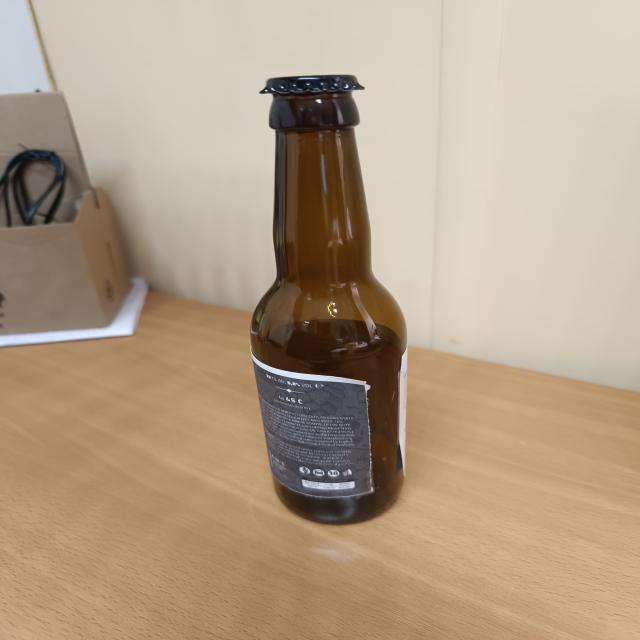Bottle: (246, 75, 410, 528)
Cap: (252, 74, 371, 96)
Label: (251, 353, 371, 501)
